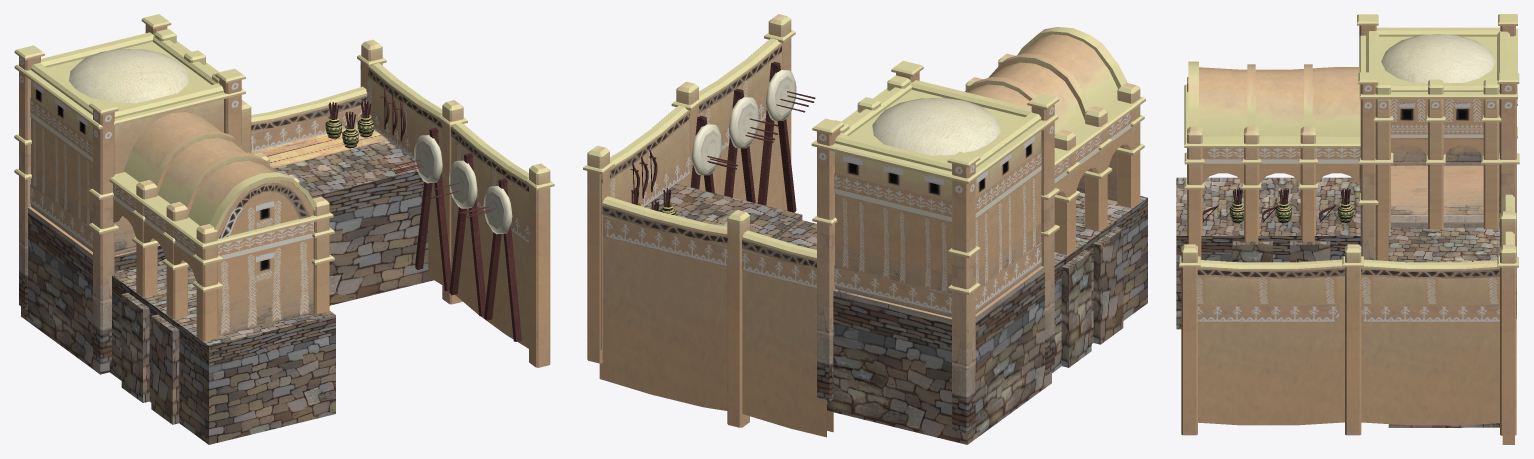
Rendered from kush_range.dae.
The picture shows the model from 3 angles, left to right: view 1: azimuth 30°, elevation 25°; view 2: azimuth 150°, elevation 25°; view 3: azimuth 270°, elevation 25°; orthographic projection. The views are drawn at different scales.
Parts seen in each view (by area): view 1: kushite_range; view 2: kushite_range; view 3: kushite_range.
Part boxes in pixels (box(x1,y1,x2,y2)): kushite_range: box(14, 14, 554, 444); kushite_range: box(583, 14, 1147, 444); kushite_range: box(1176, 14, 1519, 444).
Bounding box in the file's own units: 25.54 × 22.27 × 20.44.
